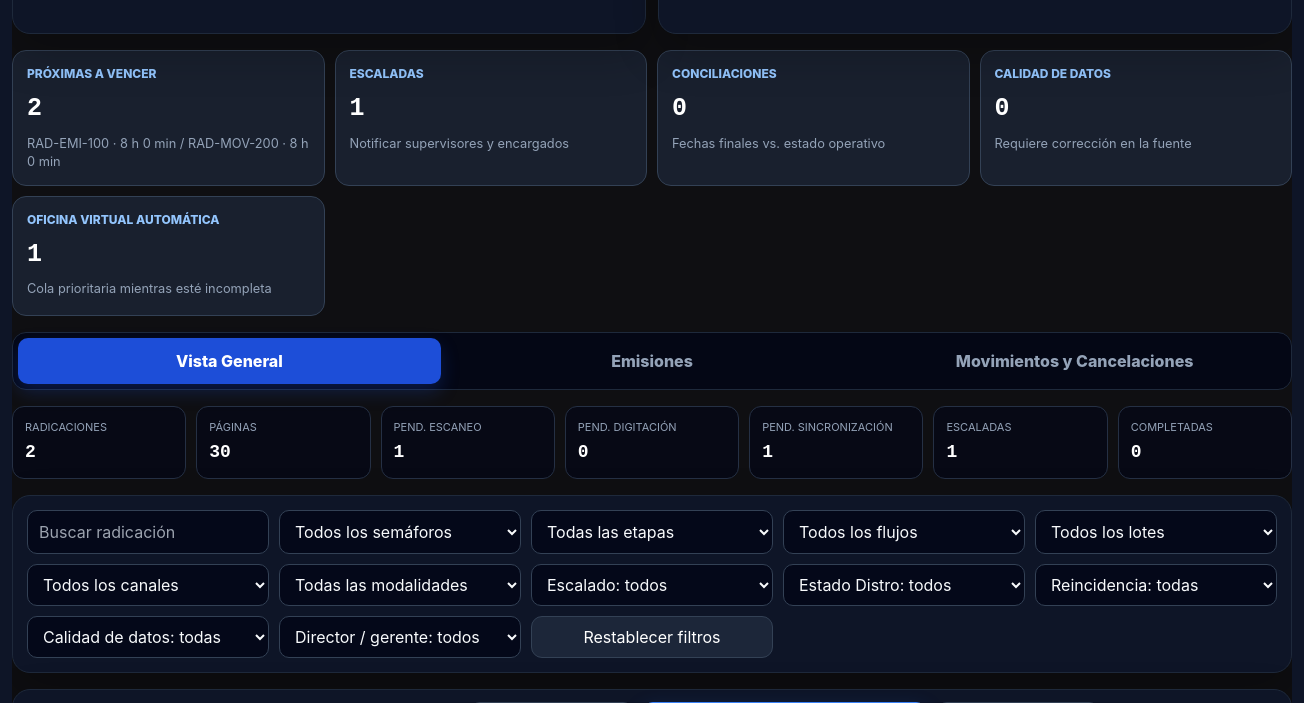
EndToEndView - Pestaña Vista General y Segmentación Reactiva › filtra reactivamente métricas analíticas y tabla al seleccionar la pestaña "Emisiones"
This screenshot has width=1304, height=703.
(page scrolled)
Note: Cambiar a pestaña Emisiones
Click the tab "Emisiones": (652, 360) [441,338,863,384]
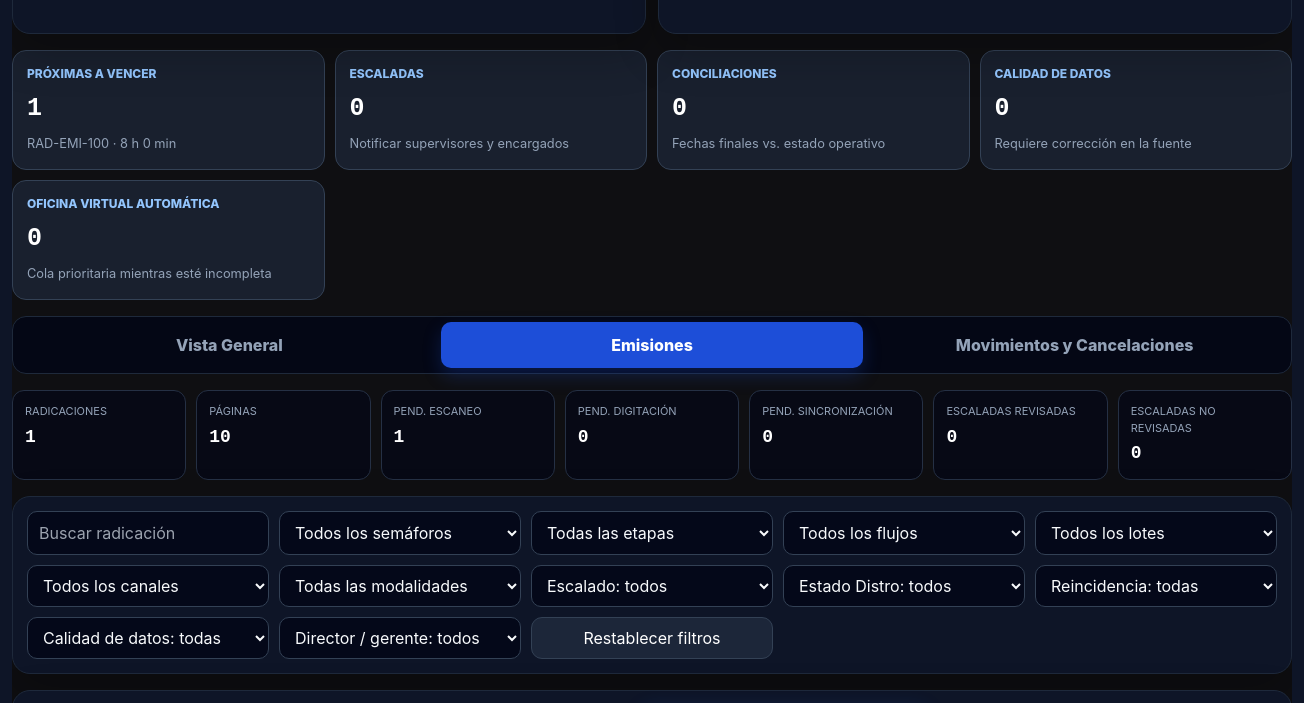
Expected: the text "RAD-EMI-100" is shown, [27,136,176,151]
Expected: the text "RAD-MOV-200" is gone
